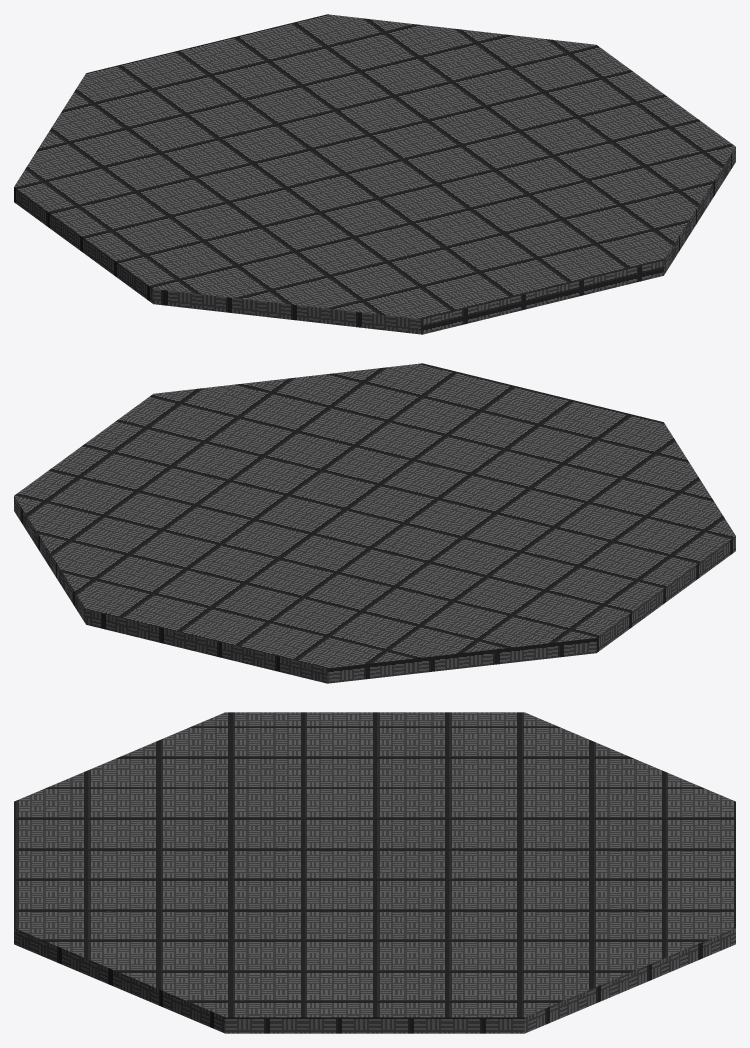
File: bunkerFloor6.gltf
The picture shows the model from 3 angles, top to bottom: view 1: azimuth 30°, elevation 25°; view 2: azimuth 150°, elevation 25°; view 3: azimuth 270°, elevation 25°; orthographic projection. The views are drawn at different scales.
Parts seen in each view (by area): view 1: cylinder; view 2: cylinder; view 3: cylinder.
Part boxes in pixels (x1,y1,x2,y2): cylinder: [14, 14, 735, 334]; cylinder: [14, 363, 735, 683]; cylinder: [14, 712, 735, 1033].
Bounding box in the file's own units: 20 × 0.5 × 20.
Materials: 1 (1 with a texture image).
